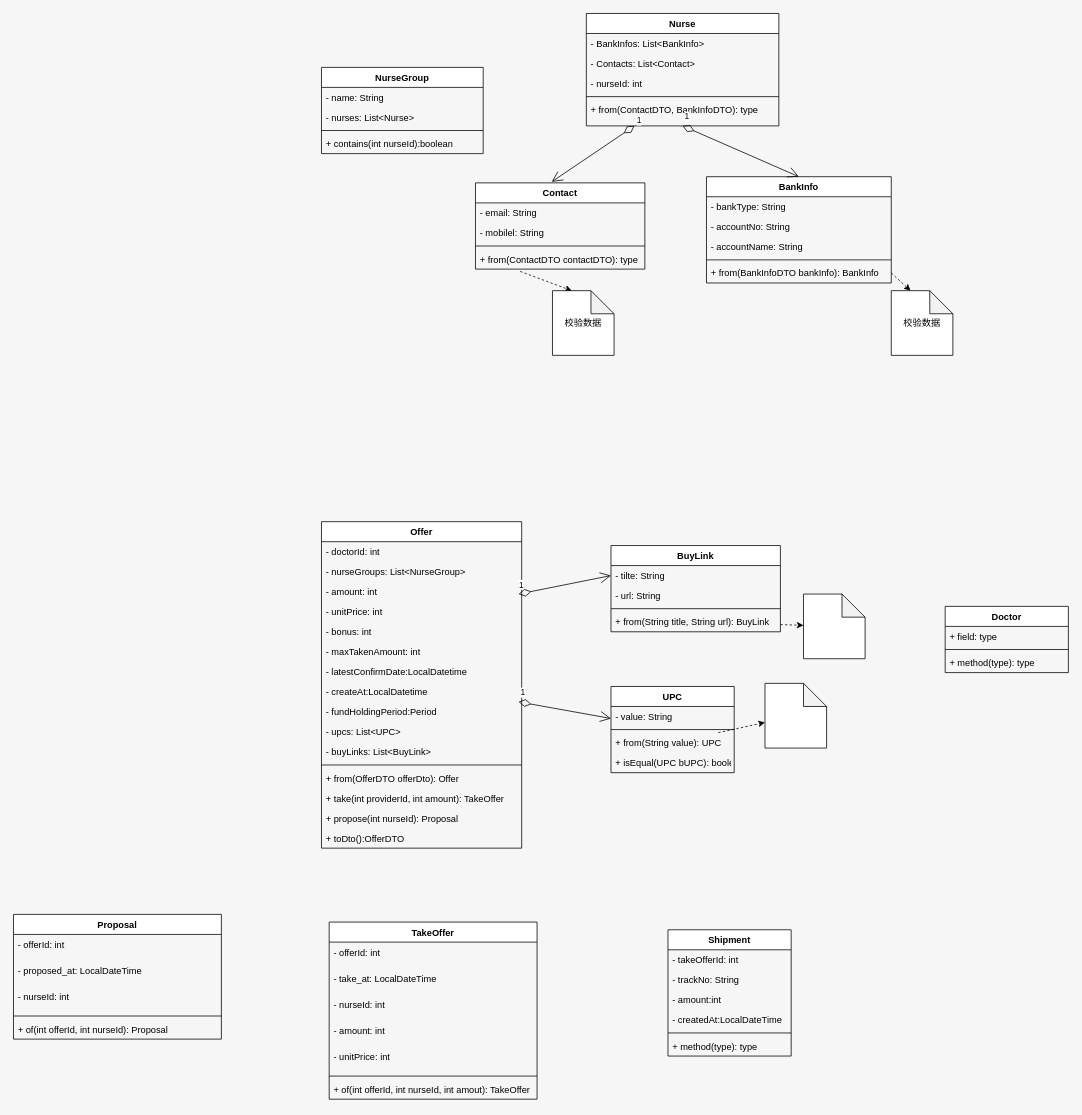
Some shapes in this 1082 by 1115 pixel diagram are drawn without their labels. Each missing label, with the centre of its shape:
"校验UPC" goes at point 795,715.
"过滤非法HTML" goes at point 834,626.
